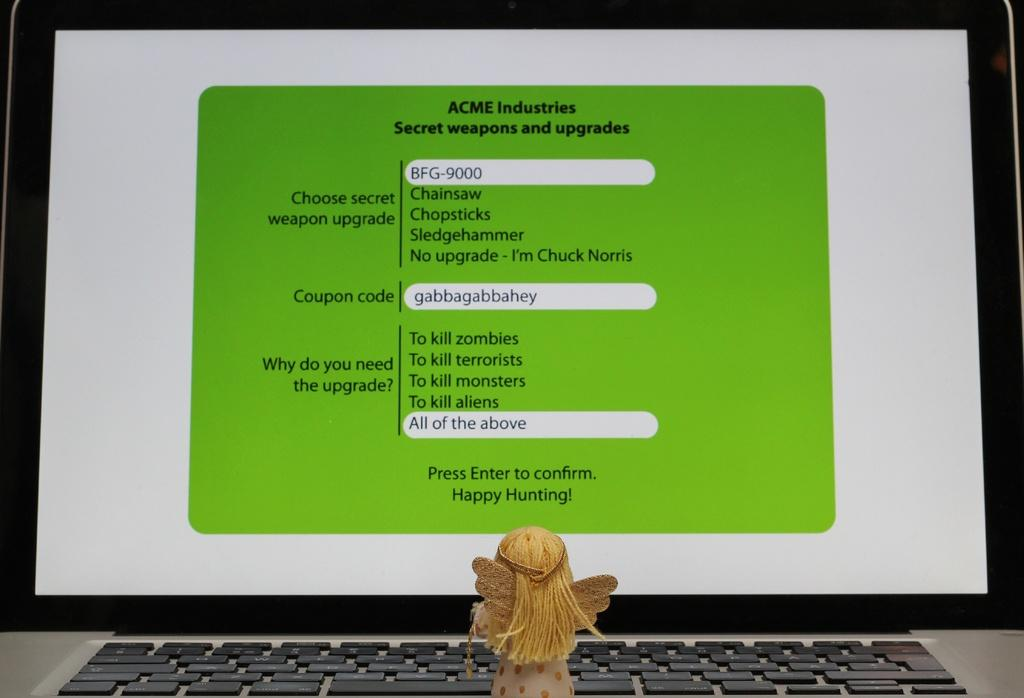Computer-keyboard: (56, 637, 970, 696)
Computer-monitor: (3, 5, 1023, 623)
